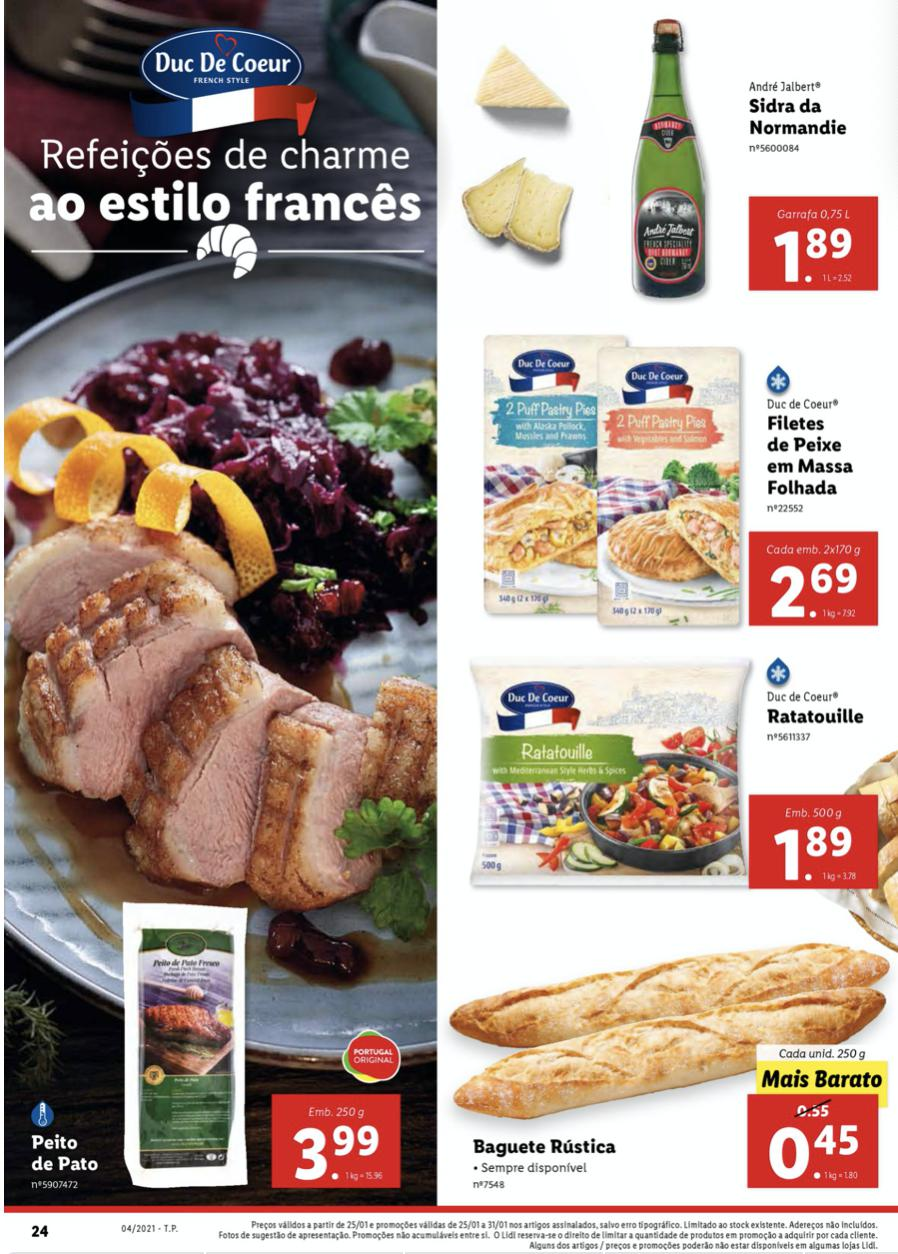name: (752, 407, 856, 498), (745, 93, 853, 145), (474, 1132, 624, 1162), (28, 1134, 106, 1179), (758, 703, 869, 728)
price: (761, 1113, 864, 1185), (289, 1110, 389, 1181), (767, 560, 864, 620), (772, 820, 861, 882), (772, 226, 853, 279)
product: (14, 867, 419, 1201), (480, 321, 888, 635), (452, 931, 898, 1199), (461, 657, 889, 909), (622, 13, 888, 312)
